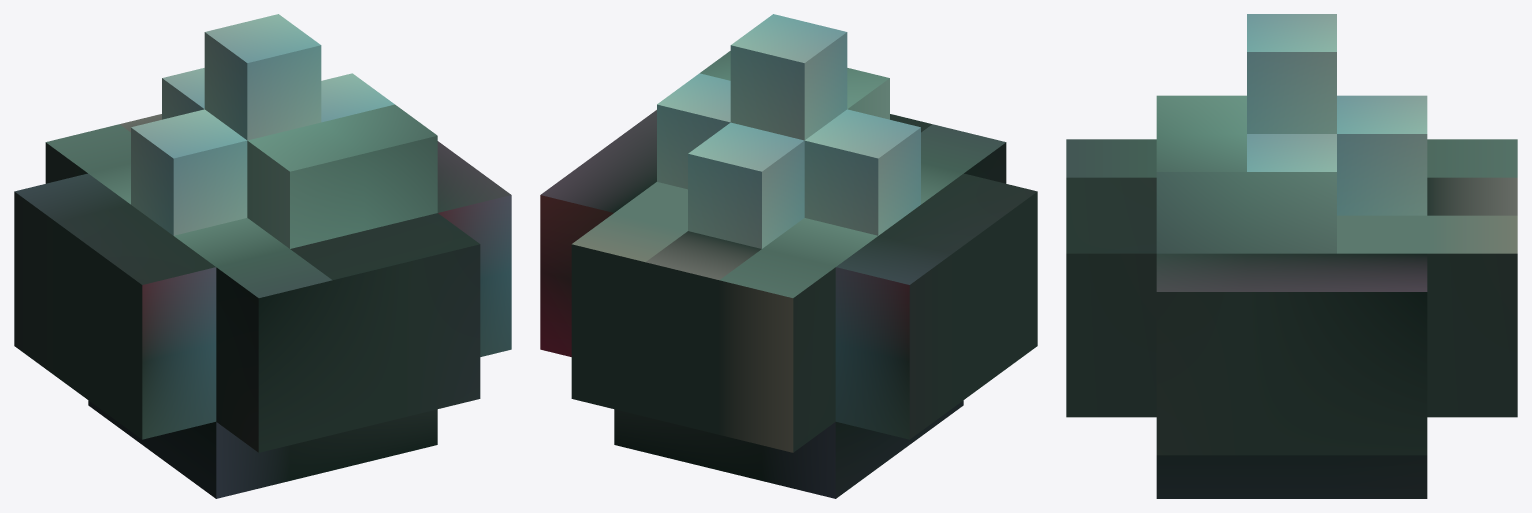
The model's file is Character_I_00.fbx.
3 views of the same model, side by side, from view 1: azimuth 30°, elevation 25°; view 2: azimuth 150°, elevation 25°; view 3: azimuth 270°, elevation 25° (orthographic). The views are drawn at different scales.
Visible parts, largest first — view 1: Character_I_00; view 2: Character_I_00; view 3: Character_I_00.
Part boxes in pixels (bbox=[...]): Character_I_00: bbox=[14, 14, 511, 498]; Character_I_00: bbox=[540, 14, 1037, 498]; Character_I_00: bbox=[1066, 14, 1517, 498].
Bounding box in the file's own units: 25 × 25 × 25.
